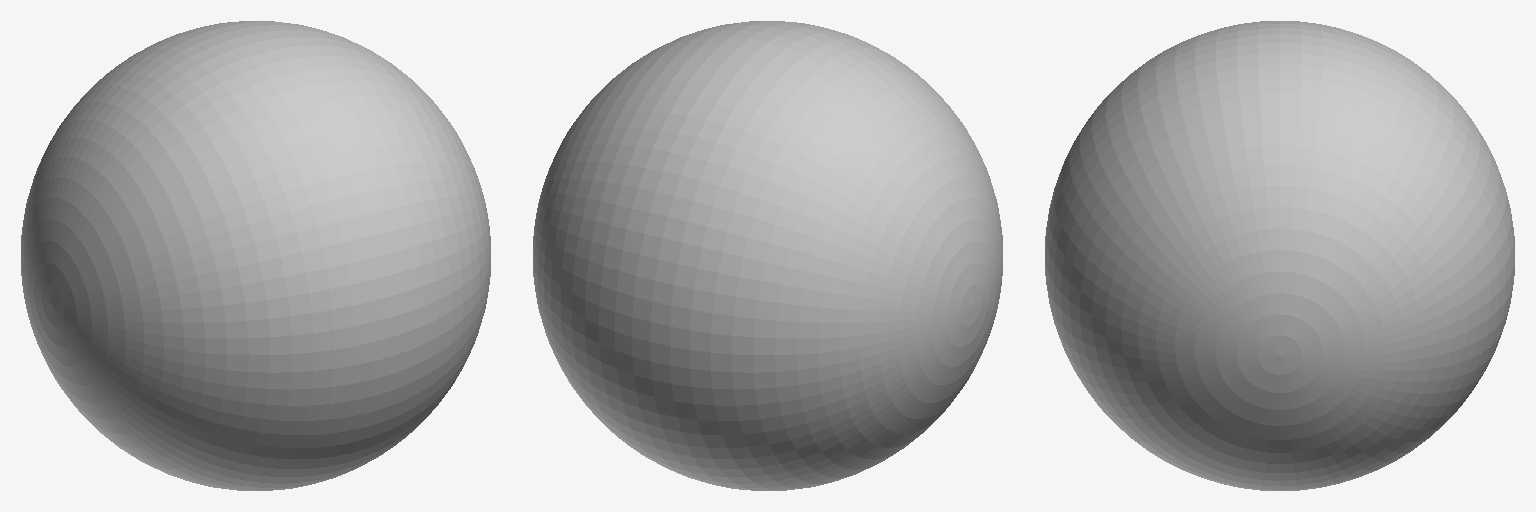
File: ball.obj
3 renders of one model, left to right at view 1: azimuth 30°, elevation 25°; view 2: azimuth 150°, elevation 25°; view 3: azimuth 270°, elevation 25°, orthographic.
Parts seen in each view (by area): view 1: Ball.SLDPRT; view 2: Ball.SLDPRT; view 3: Ball.SLDPRT.
Boxes of the visible parts, <box> form: Ball.SLDPRT: <box>21,21,490,490</box>; Ball.SLDPRT: <box>533,21,1002,490</box>; Ball.SLDPRT: <box>1045,21,1514,490</box>.
Bounding box in the file's own units: 24 × 24 × 24.